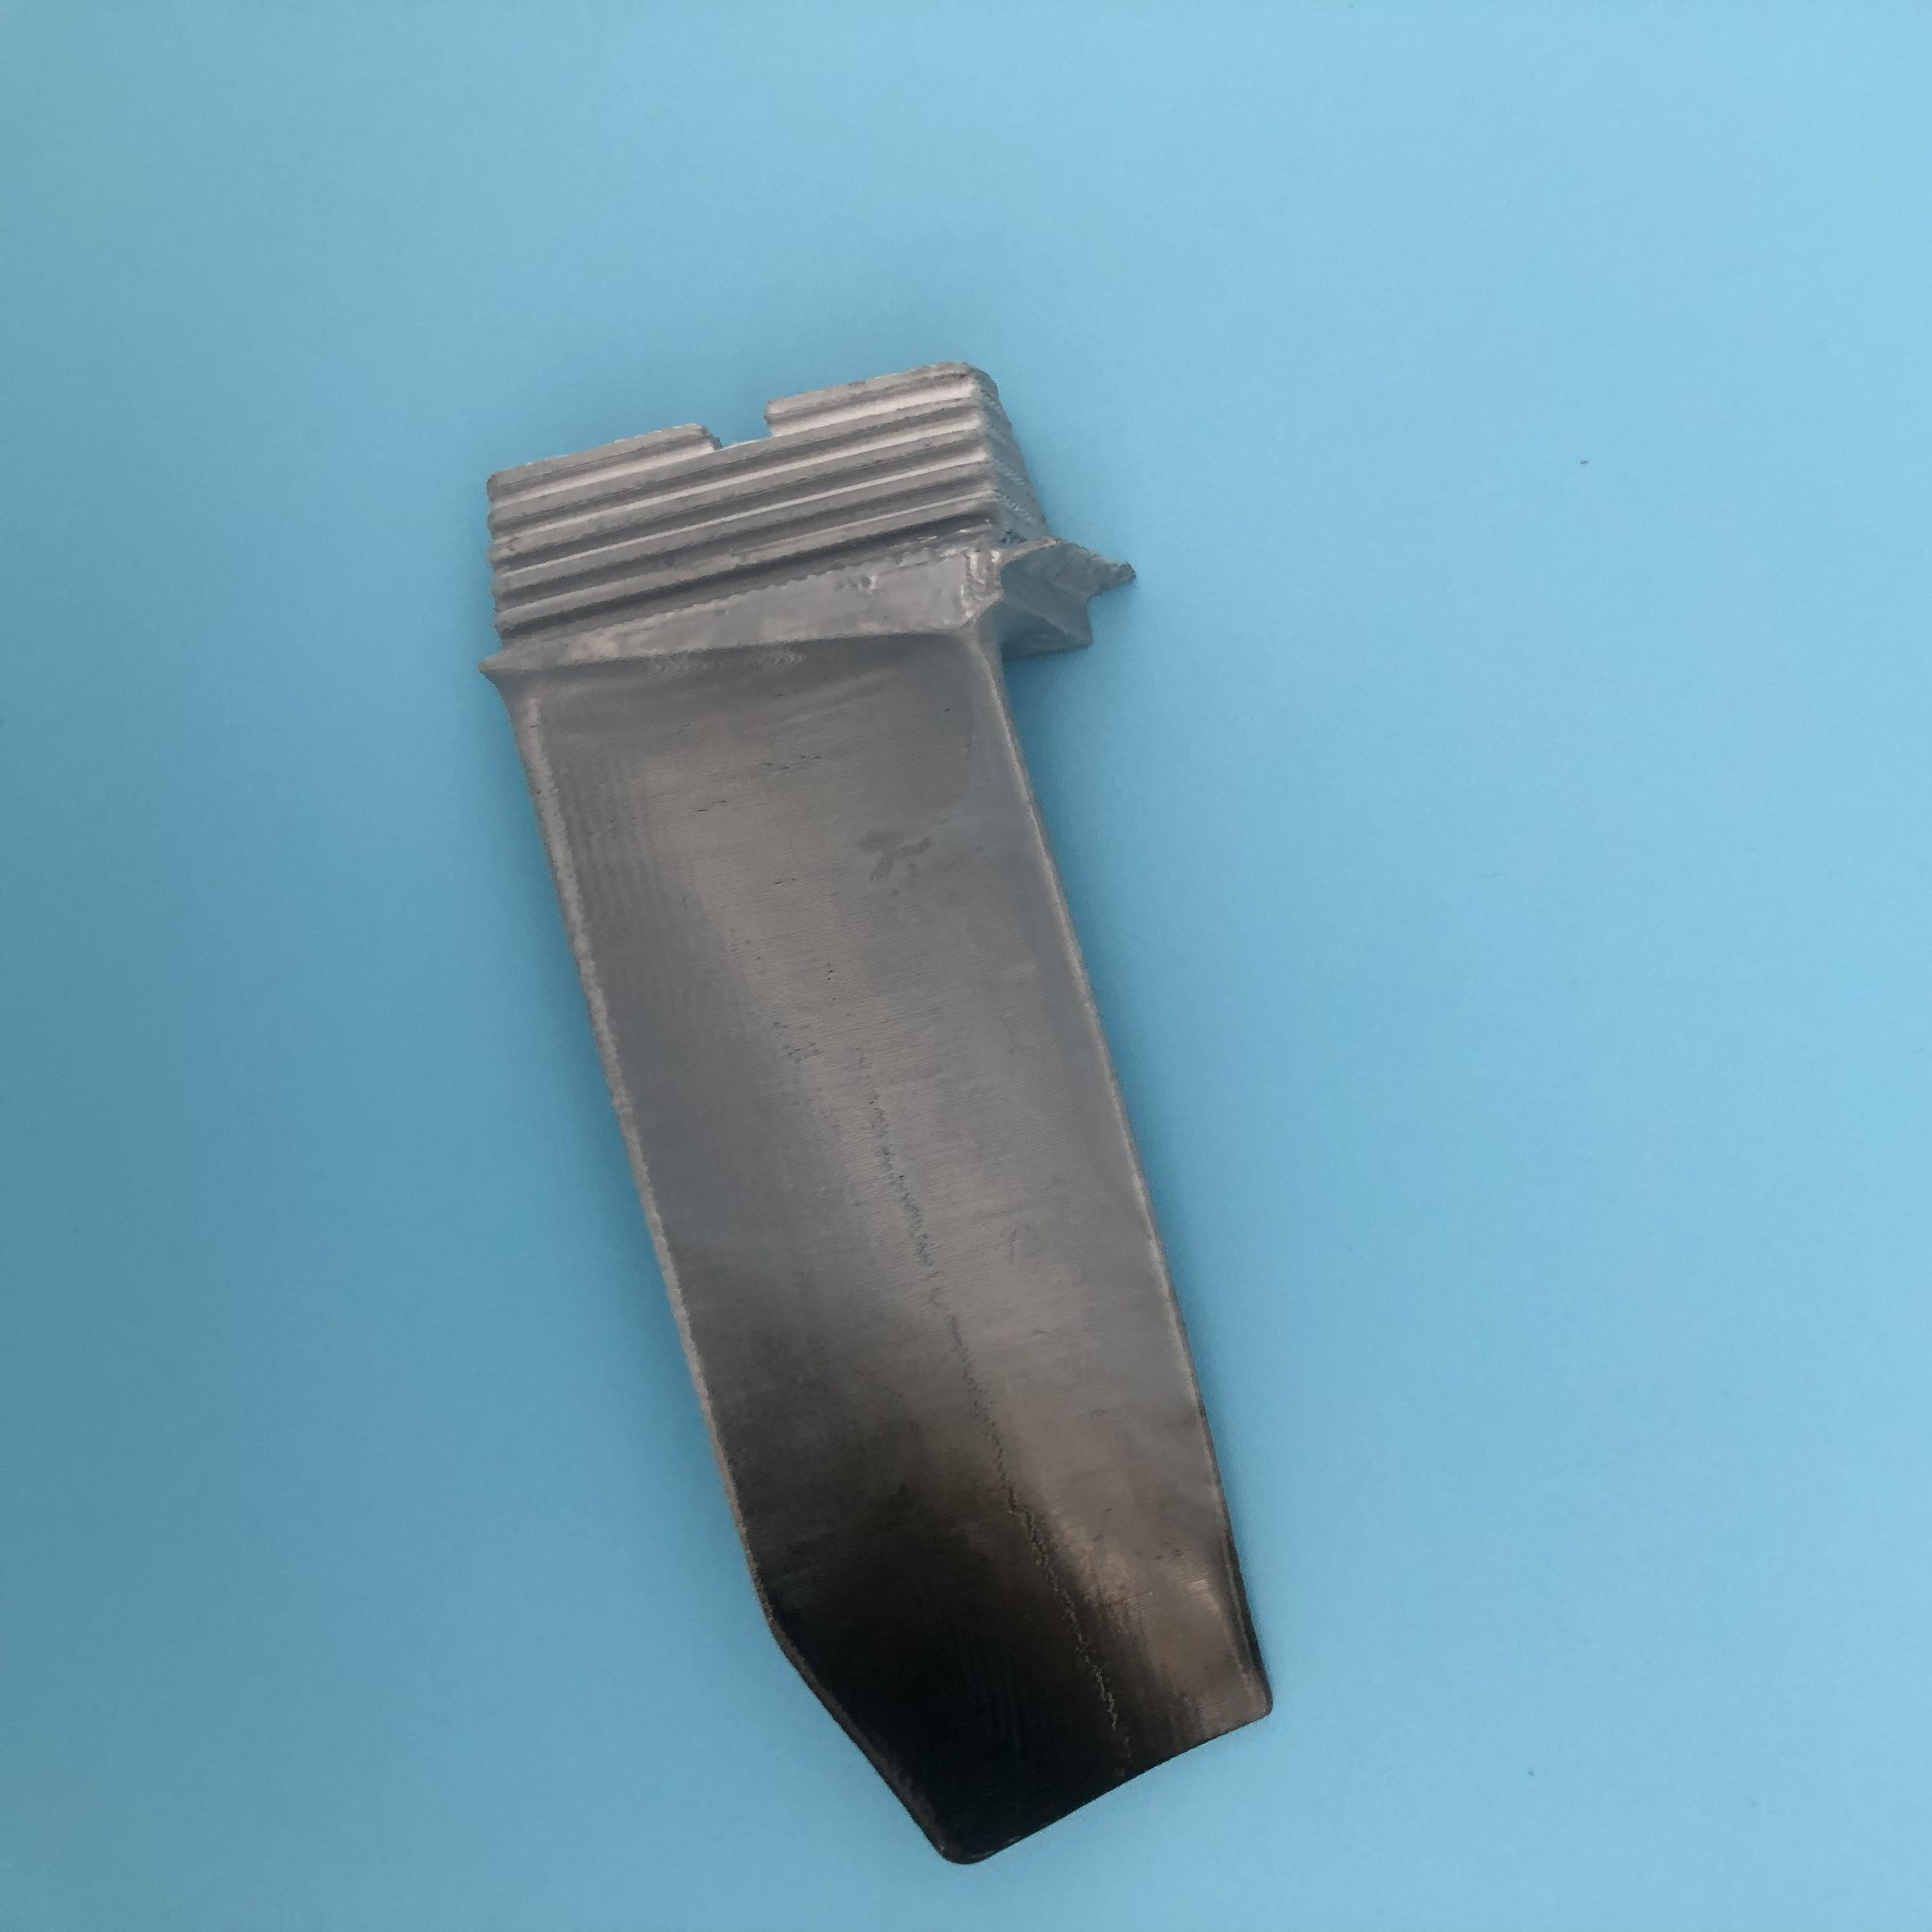ablation: (761, 1389, 1191, 1780)
